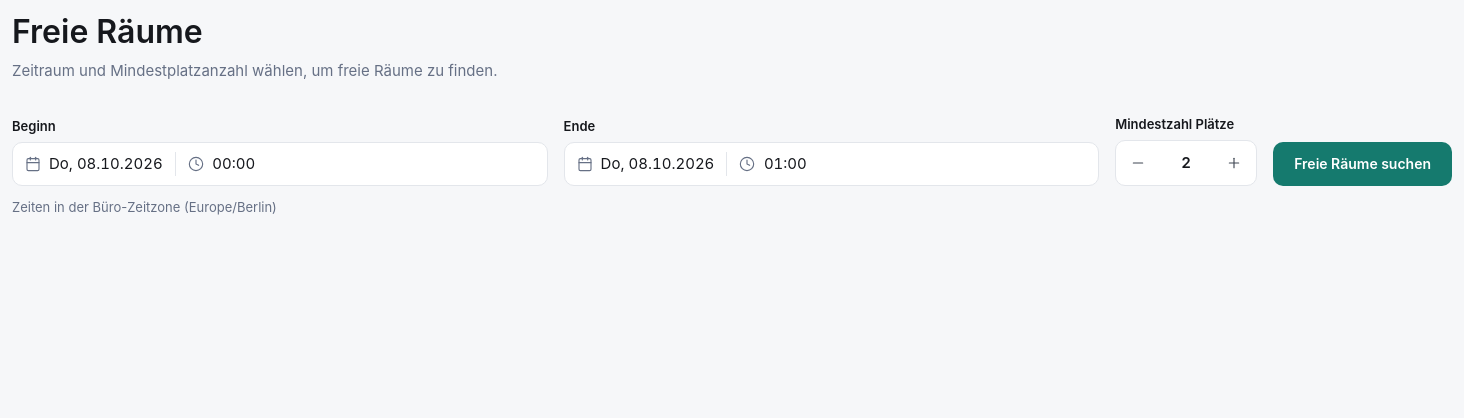
it: FreeRoomsPage › shows a readable error state when the API fails
The image size is (1464, 418).
Type "2026-03-11" into the date field with test id "free-rooms-start-date-input" at (280, 164), box left=12, top=142, right=548, bottom=186
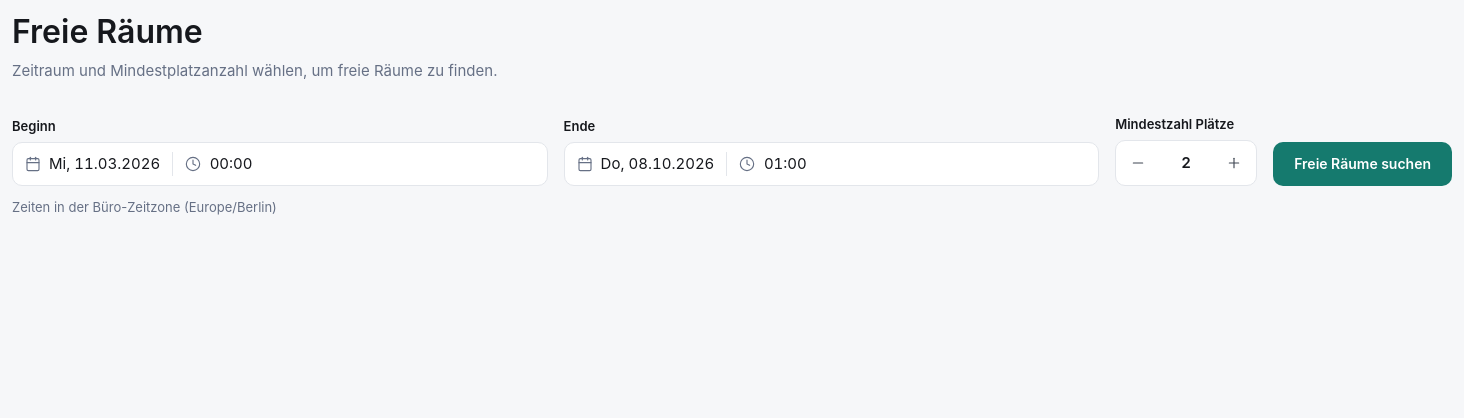
Replace the text in the time field with test id "free-rooms-start-time-input" with "09:00" at (280, 164), box left=12, top=142, right=548, bottom=186
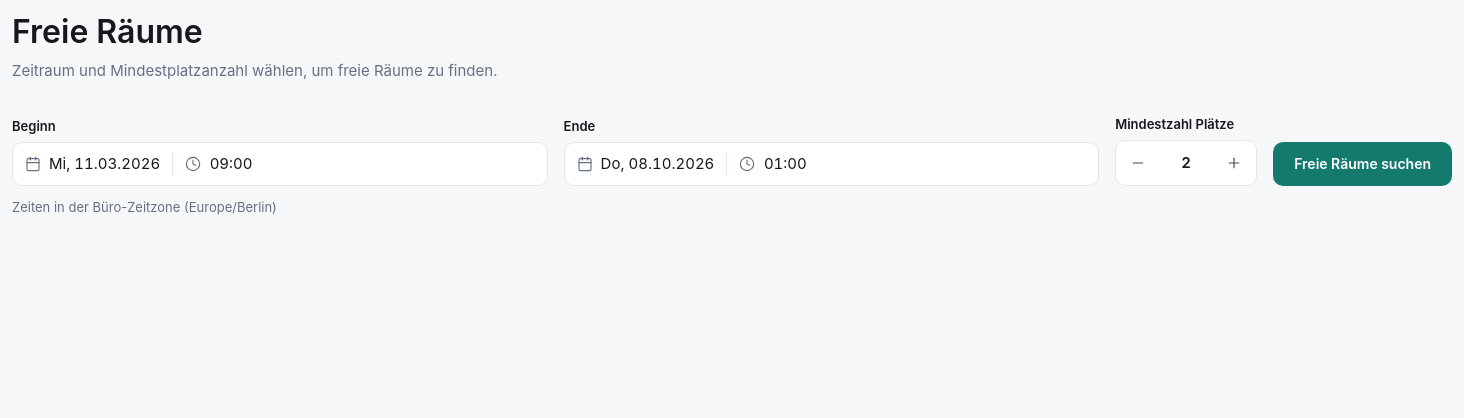
Type "2026-03-11" into the date field with test id "free-rooms-end-date-input" at (831, 164), box left=564, top=142, right=1099, bottom=186
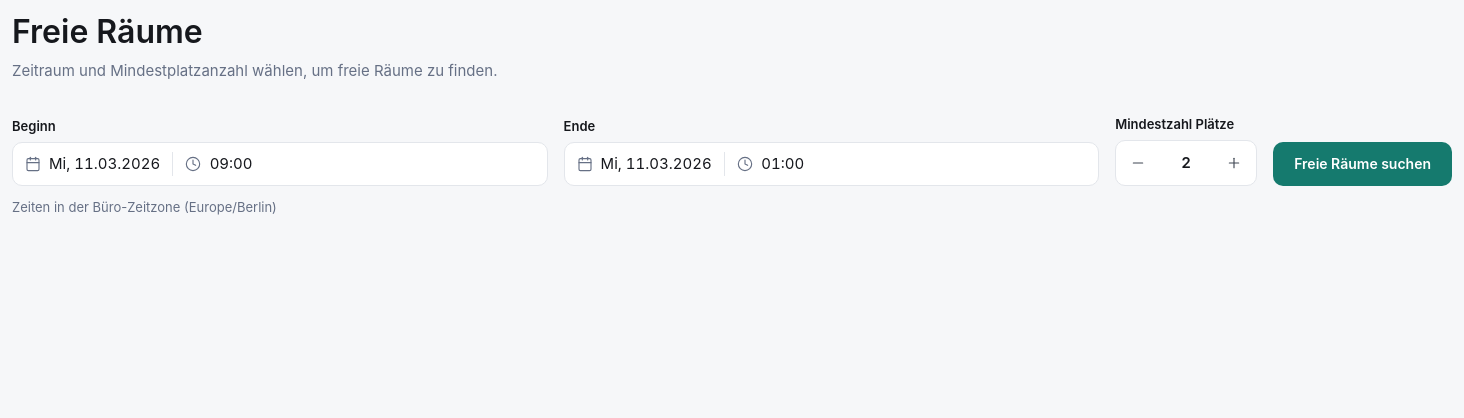
Replace the text in the time field with test id "free-rooms-end-time-input" with "10:00" at (831, 164), box left=564, top=142, right=1099, bottom=186
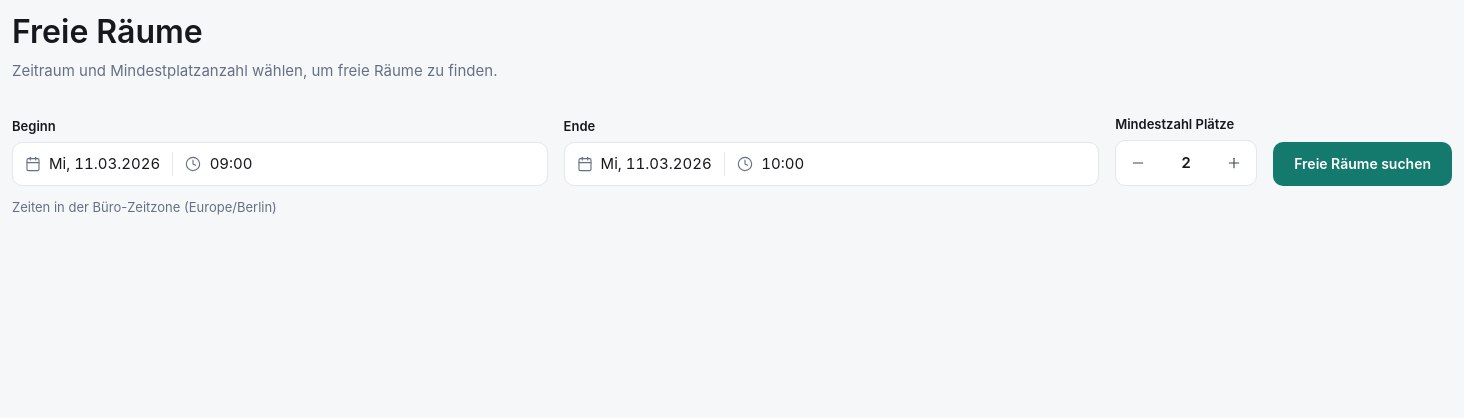
Click the button "Freie Räume suchen" at (1363, 164), box left=1273, top=142, right=1452, bottom=186
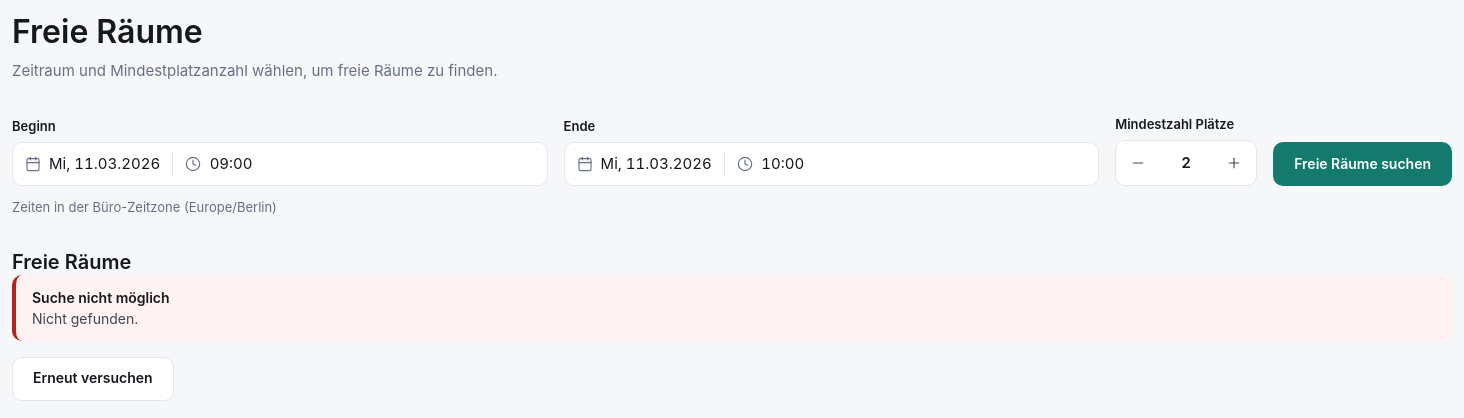
expect the message shows "Nicht gefunden.": met, box left=32, top=310, right=138, bottom=326
expect the button "Erneut versuchen" is shown: met, box left=12, top=356, right=174, bottom=400
